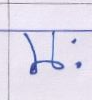anusvara: (76, 62, 81, 68)
